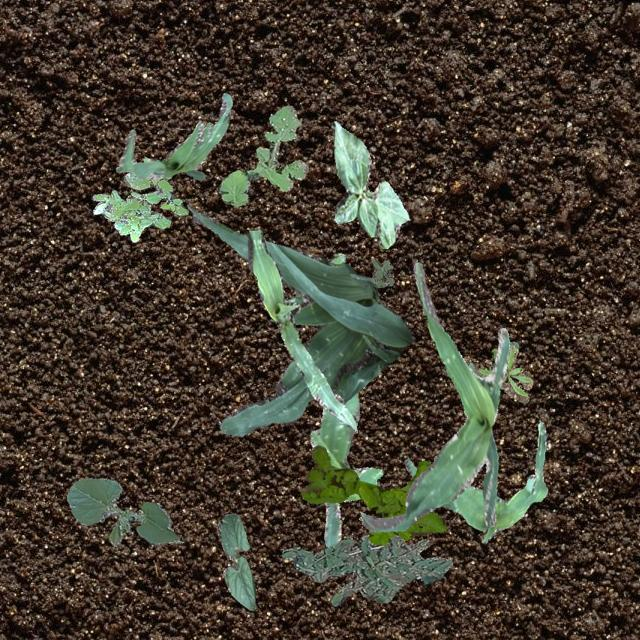crop: (186, 204, 412, 434), (358, 262, 508, 532), (246, 230, 356, 428), (404, 420, 546, 542), (308, 392, 382, 546), (115, 92, 232, 178), (331, 120, 408, 248), (66, 476, 182, 546), (216, 512, 256, 610)
weed: (300, 444, 446, 544), (280, 534, 452, 604), (216, 104, 306, 204), (91, 156, 188, 242), (282, 252, 344, 304), (478, 344, 532, 402), (468, 341, 518, 376), (368, 258, 392, 286)
